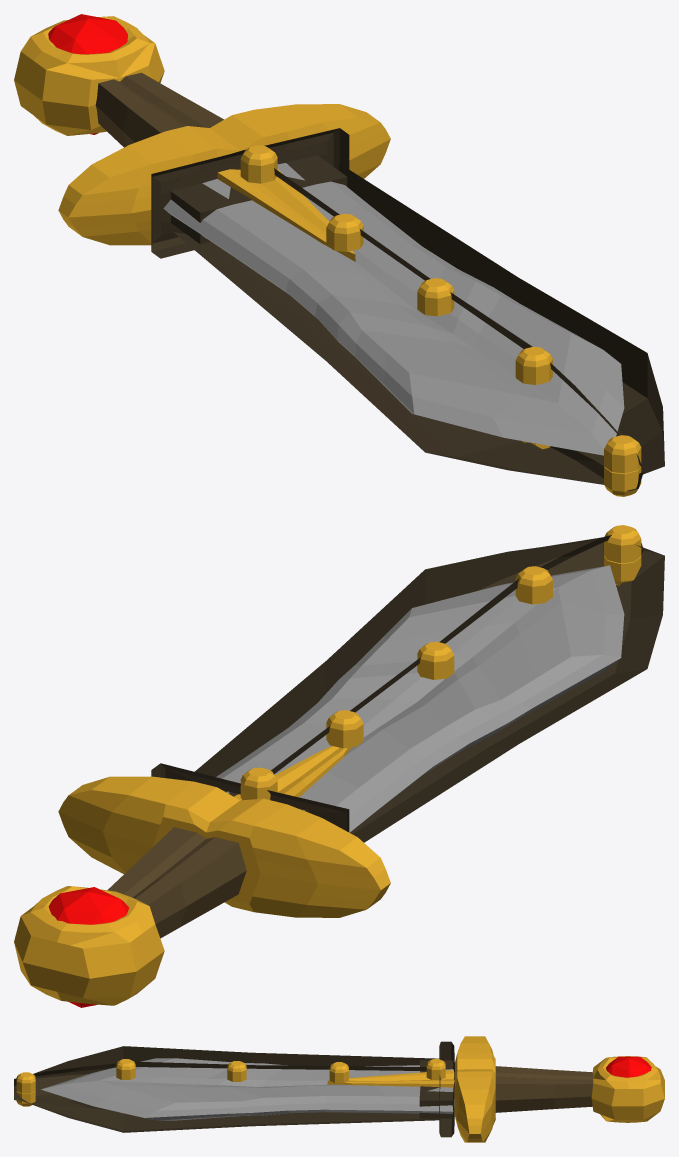
File: swordconnected.fbx
3 renders of one model, top to bottom at view 1: azimuth 30°, elevation 25°; view 2: azimuth 150°, elevation 25°; view 3: azimuth 270°, elevation 25°, orthographic. The views are drawn at different scales.
Parts seen in each view (by area): view 1: Icosphere, Plane.003; view 2: Icosphere, Plane.003; view 3: Icosphere, Plane.003.
Boxes of the visible parts, bbox=[...] form: Icosphere: bbox=[14, 14, 624, 455]; Plane.003: bbox=[151, 128, 664, 496]; Icosphere: bbox=[14, 565, 624, 1007]; Plane.003: bbox=[151, 525, 664, 842]; Icosphere: bbox=[41, 1036, 664, 1142]; Plane.003: bbox=[14, 1041, 454, 1137].
Bounding box in the file's own units: 460 × 151 × 1426.
